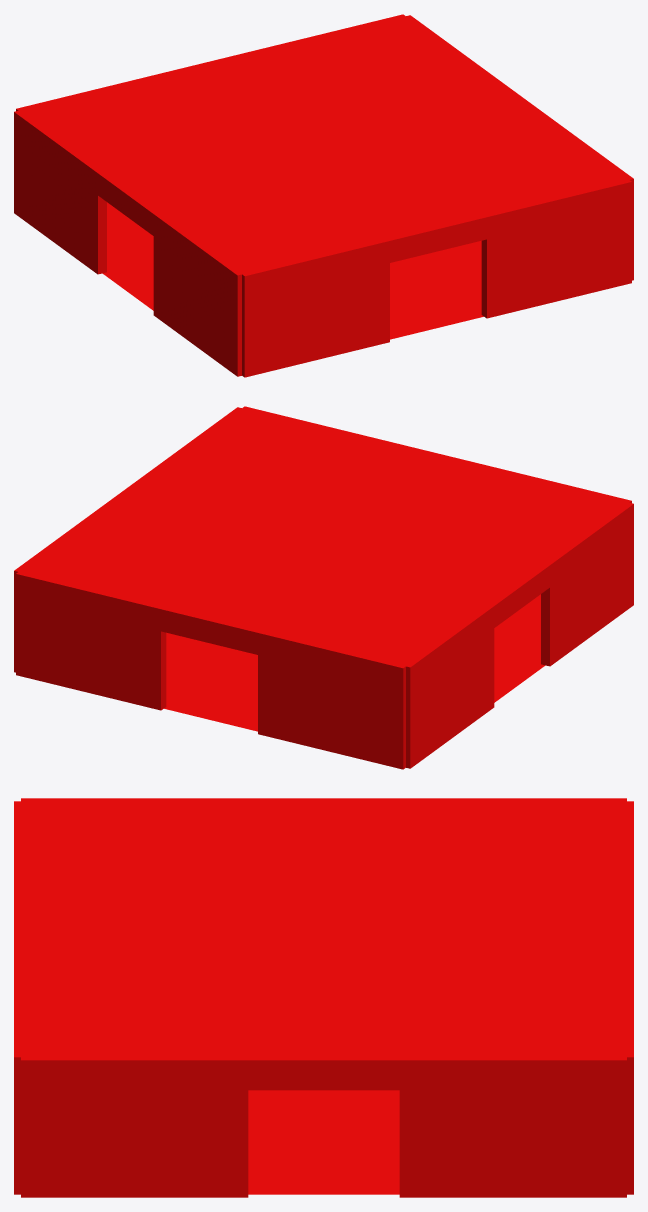
Rendered from cave_room_b.dae.
3 views of the same model, one above another, from view 1: azimuth 30°, elevation 25°; view 2: azimuth 150°, elevation 25°; view 3: azimuth 270°, elevation 25° (orthographic). The views are drawn at different scales.
Parts seen in each view (by area): view 1: Plane.001, Cube.009, Cube.010, Plane, Cube.004, Cube.003, Cube.011, Cube.005, Cube.007, Cube.001, Cube, Cube.006 (+2 smaller); view 2: Plane.001, Cube.007, Cube.006, Plane, Cube.004, Cube.003, Cube.008, Cube.005, Cube.010, Cube, Cube.009, Cube.001 (+2 smaller); view 3: Plane.001, Cube.001, Cube, Plane, Cube.002, Cube.010, Cube.007, Cube.004, Cube.003, Cube.009, Cube.006, Cube.005 (+3 smaller).
Boxes of the visible parts, <box> form: Plane.001: <box>19,18,628,271</box>; Cube.009: <box>240,237,389,377</box>; Cube.010: <box>481,180,631,318</box>; Plane: <box>102,202,483,339</box>; Cube.004: <box>14,111,106,274</box>; Cube.003: <box>153,212,243,376</box>; Cube.011: <box>385,214,486,262</box>; Cube.005: <box>98,171,162,235</box>; Cube.007: <box>258,14,407,53</box>; Cube.001: <box>404,15,493,78</box>; Cube: <box>542,117,633,280</box>; Cube.006: <box>16,73,164,111</box>; Plane.001: <box>19,411,628,664</box>; Cube.007: <box>16,571,166,710</box>; Cube.006: <box>258,629,407,769</box>; Plane: <box>164,594,545,731</box>; Cube.004: <box>404,604,494,768</box>; Cube.003: <box>541,503,633,666</box>; Cube.008: <box>161,606,262,654</box>; Cube.005: <box>485,563,549,627</box>; Cube.010: <box>240,406,389,445</box>; Cube: <box>154,407,243,470</box>; Cube.009: <box>482,465,631,503</box>; Cube.001: <box>14,509,105,672</box>; Plane.001: <box>21,801,626,1054</box>; Cube.001: <box>399,1054,626,1197</box>; Cube: <box>21,1054,248,1197</box>; Plane: <box>248,1090,399,1194</box>; Cube.002: <box>248,1054,399,1090</box>; Cube.010: <box>14,961,28,1194</box>; Cube.007: <box>619,961,633,1194</box>; Cube.004: <box>399,798,626,804</box>; Cube.003: <box>21,798,248,804</box>; Cube.009: <box>14,801,28,897</box>; Cube.006: <box>619,801,633,897</box>; Cube.005: <box>248,798,399,804</box>.
Size of the model in its own units: 1048 by 1048 by 256.
